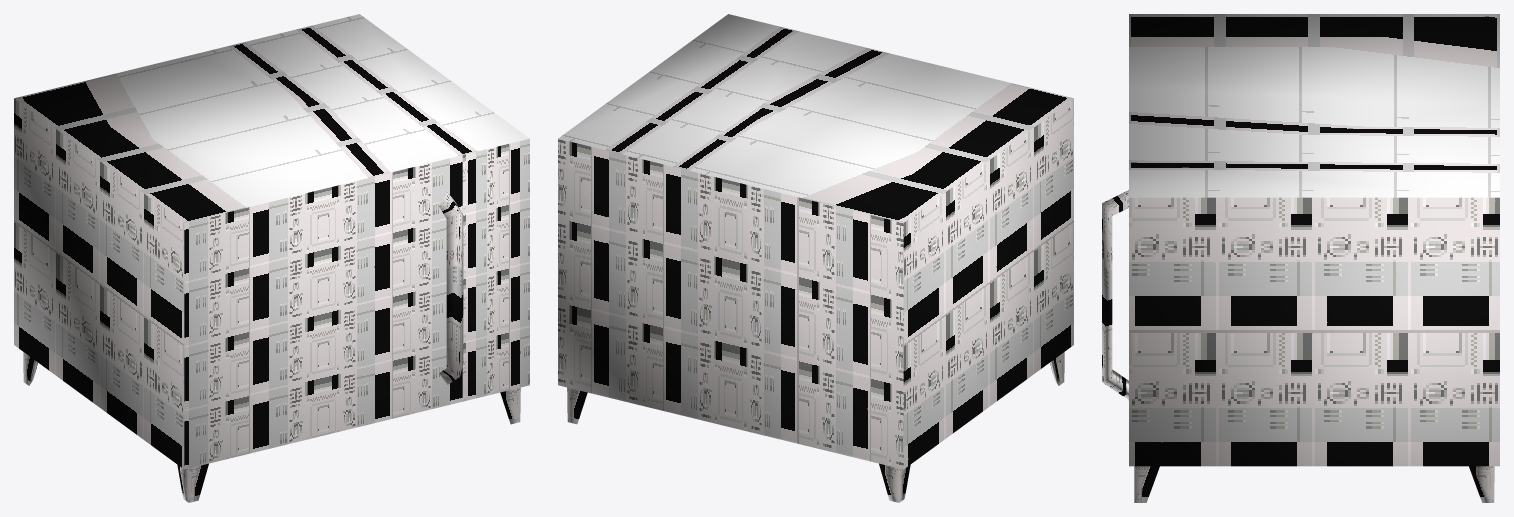
The model's file is 3531IMEL01_32.gltf.
3 renders of one model, left to right at view 1: azimuth 30°, elevation 25°; view 2: azimuth 150°, elevation 25°; view 3: azimuth 270°, elevation 25°, orthographic. The views are drawn at different scales.
Visible parts, largest first — view 1: 3531IMEL01_32; view 2: 3531IMEL01_32; view 3: 3531IMEL01_32.
Part boxes in pixels (box(x1,y1,x2,y2)): 3531IMEL01_32: box(14, 14, 529, 502); 3531IMEL01_32: box(558, 14, 1073, 502); 3531IMEL01_32: box(1102, 14, 1499, 502).
Size of the model in its own units: 0.8501 by 0.6665 by 0.7781.
Materials: 4 (4 with a texture image).
